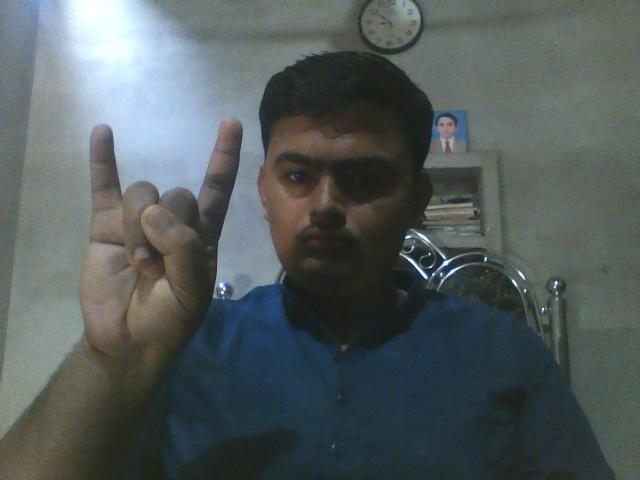No: (59, 98, 252, 380)
